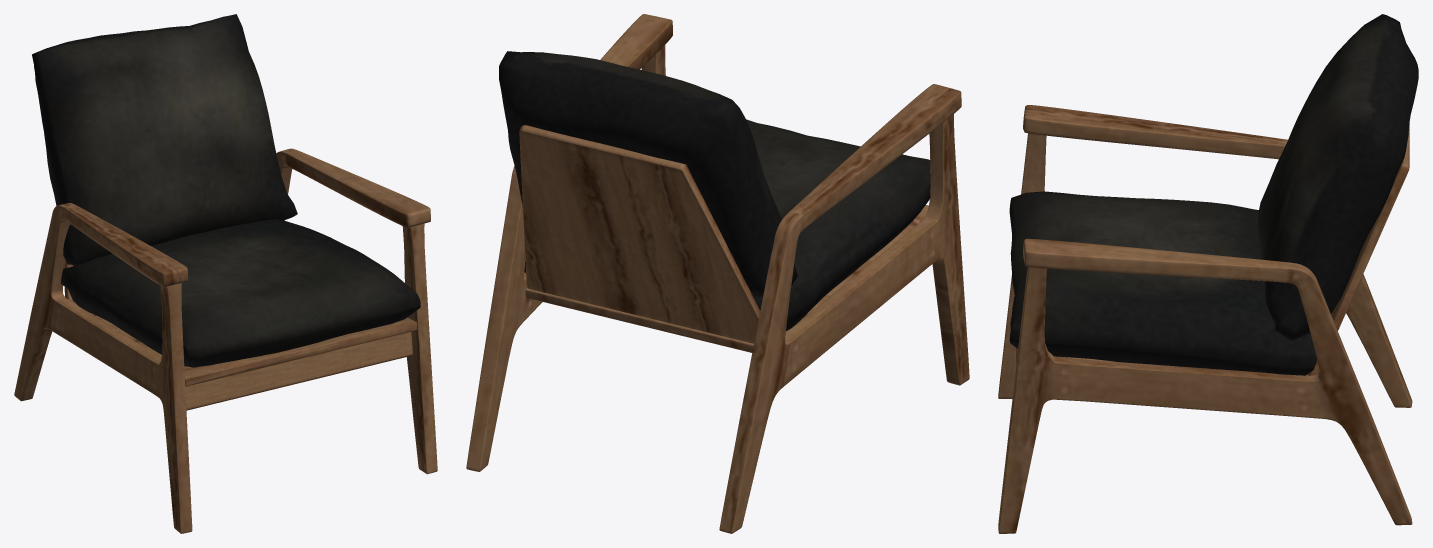
The model's file is modern_arm_chair_01.glb.
3 renders of one model, left to right at view 1: azimuth 30°, elevation 25°; view 2: azimuth 150°, elevation 25°; view 3: azimuth 270°, elevation 25°, orthographic. The views are drawn at different scales.
Parts seen in each view (by area): view 1: modern_arm_chair_01; view 2: modern_arm_chair_01; view 3: modern_arm_chair_01.
Part boxes in pixels (x1,y1,x2,y2): modern_arm_chair_01: (14,14,437,533); modern_arm_chair_01: (466,14,969,533); modern_arm_chair_01: (998,14,1418,533).
Size of the model in its own units: 0.8203 by 1.02 by 0.9865.
2 materials, 2 textured.
